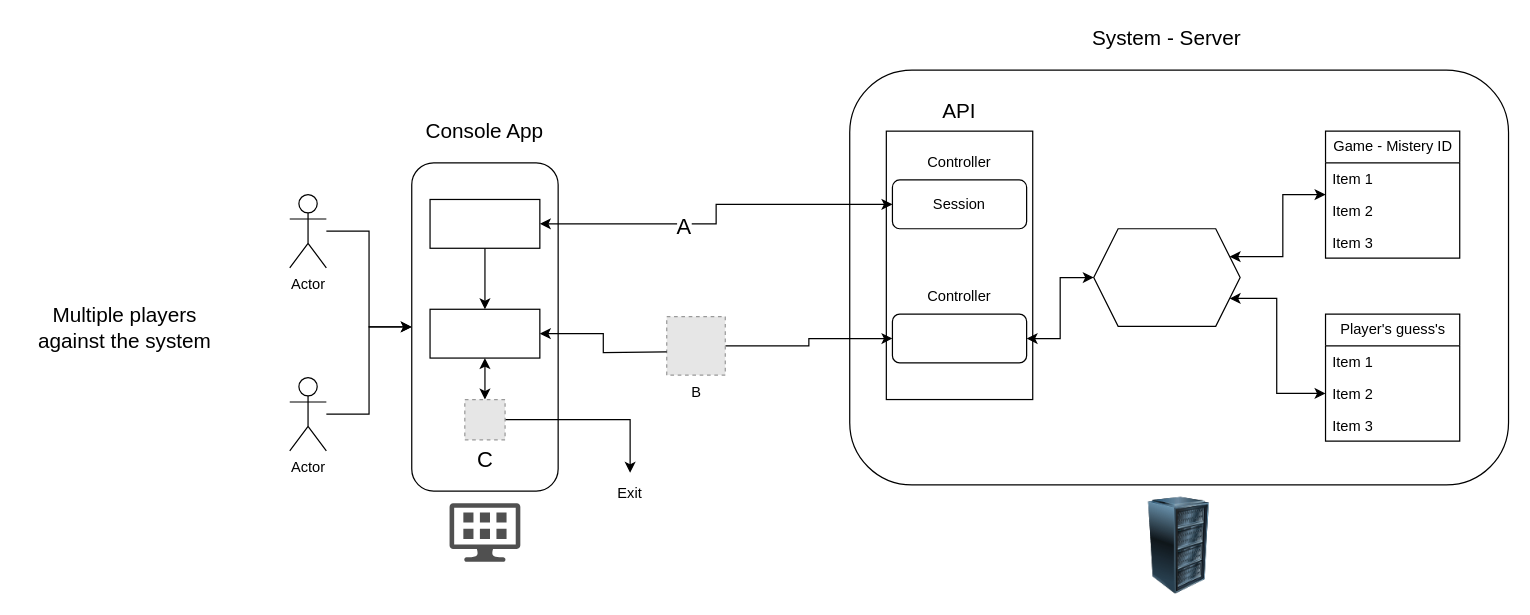
This 1530x615 diagram has some shape labels left out. Grey dashed boxes stand in for pictures. The centre of each missing label's shape, as x and y in pixels:
"Game" belongs at point 959,338.
"Game Logic" belongs at point 1166,277.
"Play game" belongs at point 484,333.
"Register" belongs at point 484,223.
